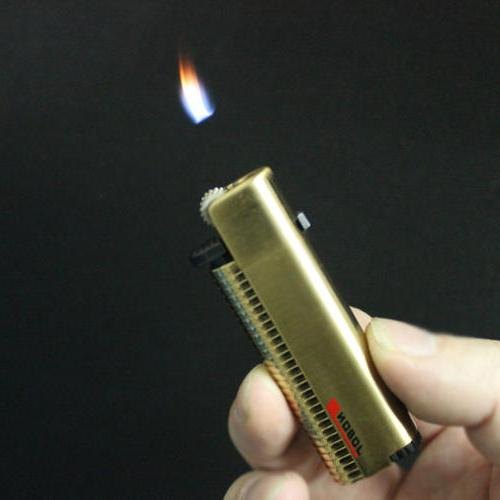fire: (158, 51, 219, 134)
